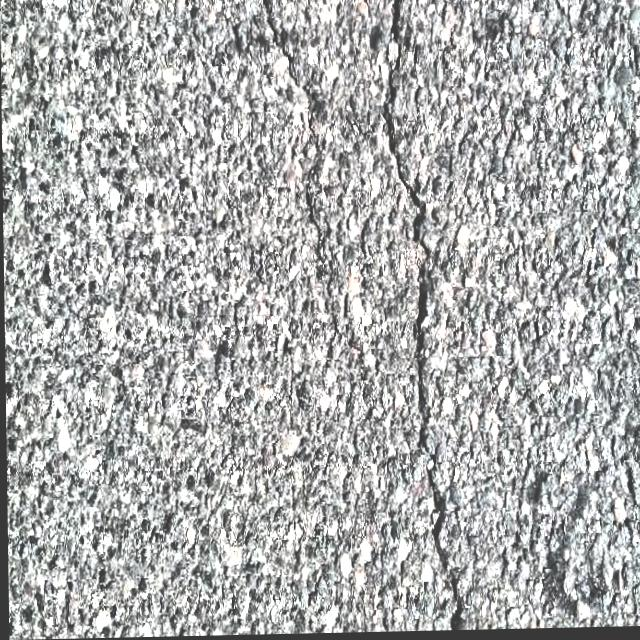cracks: (383, 0, 461, 630)
